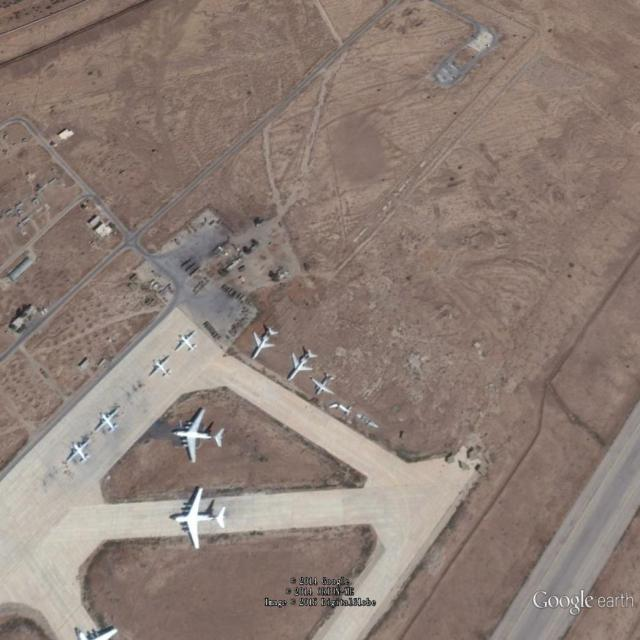aircraft: (168, 485, 231, 553), (172, 403, 227, 471), (250, 321, 283, 362), (284, 346, 319, 383), (93, 406, 127, 437), (65, 437, 95, 468), (310, 370, 339, 399), (174, 328, 201, 357), (147, 355, 177, 381)
